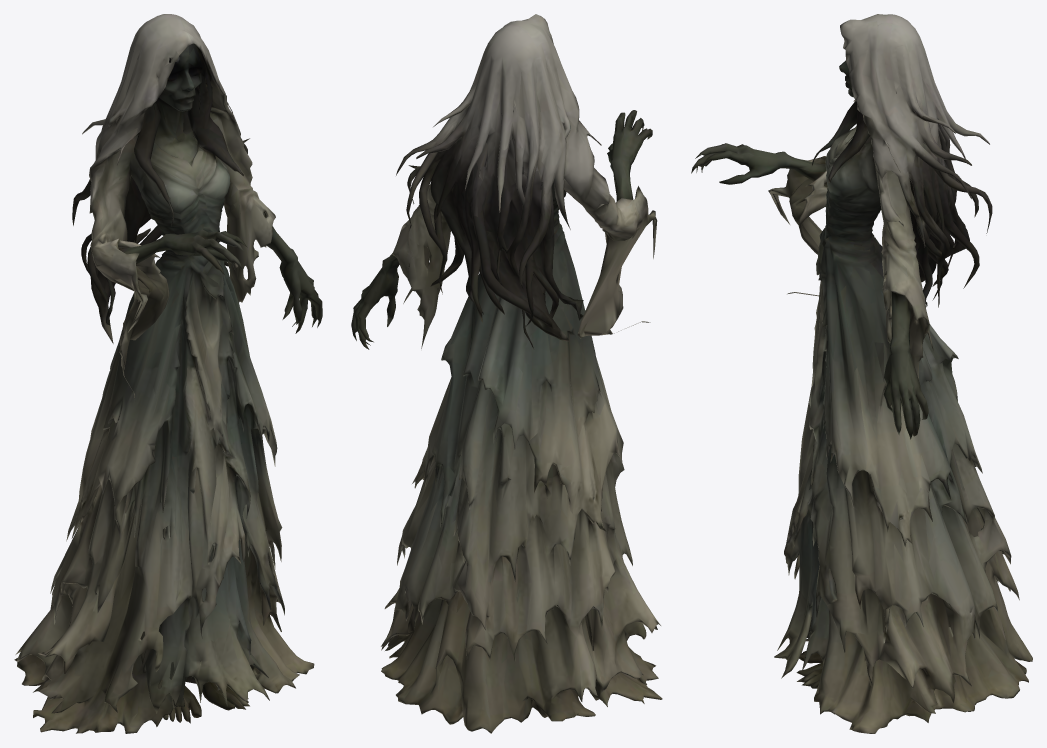
Rendered from llorona_p0.glb.
3 renders of one model, left to right at view 1: azimuth 30°, elevation 25°; view 2: azimuth 150°, elevation 25°; view 3: azimuth 270°, elevation 25°, orthographic. The views are drawn at different scales.
Parts seen in each view (by area): view 1: llorona; view 2: llorona; view 3: llorona.
Boxes of the visible parts, x1,y1,x2,y2 form: llorona: [14, 14, 322, 733]; llorona: [351, 14, 662, 733]; llorona: [691, 14, 1032, 733].
Bounding box in the file's own units: 0.7593 × 1.63 × 0.7677.
1 material, 1 textured.
